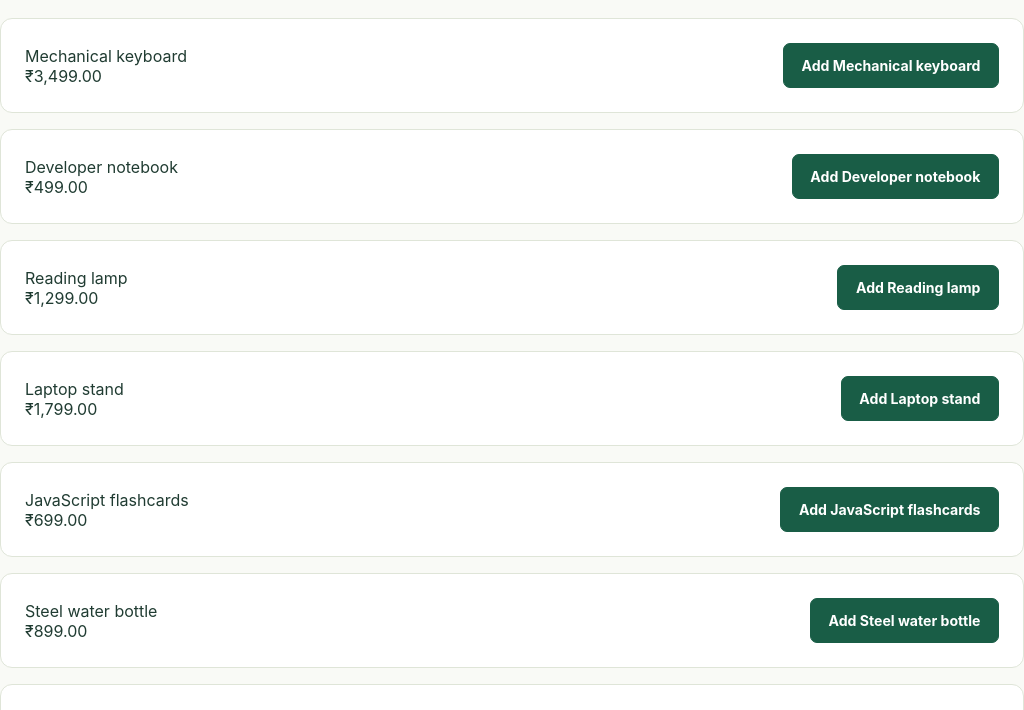
Test: cart integrates product selection and removal
The image size is (1024, 710).
Click the button "Add Mechanical keyboard" at (891, 66), box [783,43,999,88]
(page scrolled)
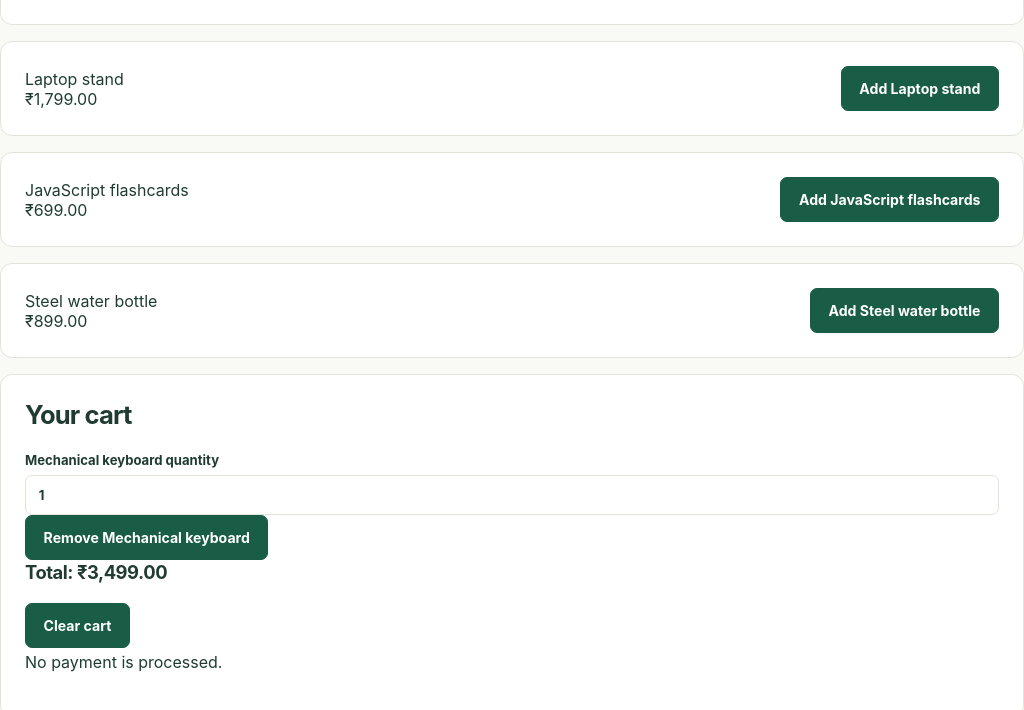
Now the number field labelled "Mechanical keyboard quantity" holds "1", box [25,475,999,515]
Click the button "Remove Mechanical keyboard" at (147, 538), box [25,515,268,560]
(page scrolled)
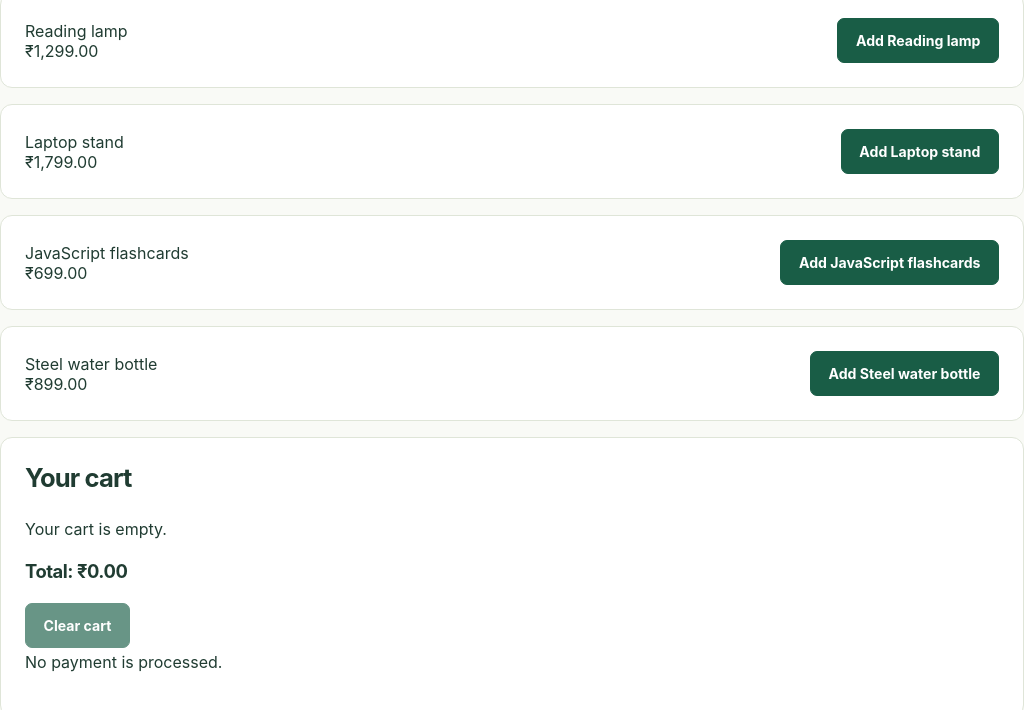
Now the text "Your cart is empty." is shown, box [25,519,167,539]
